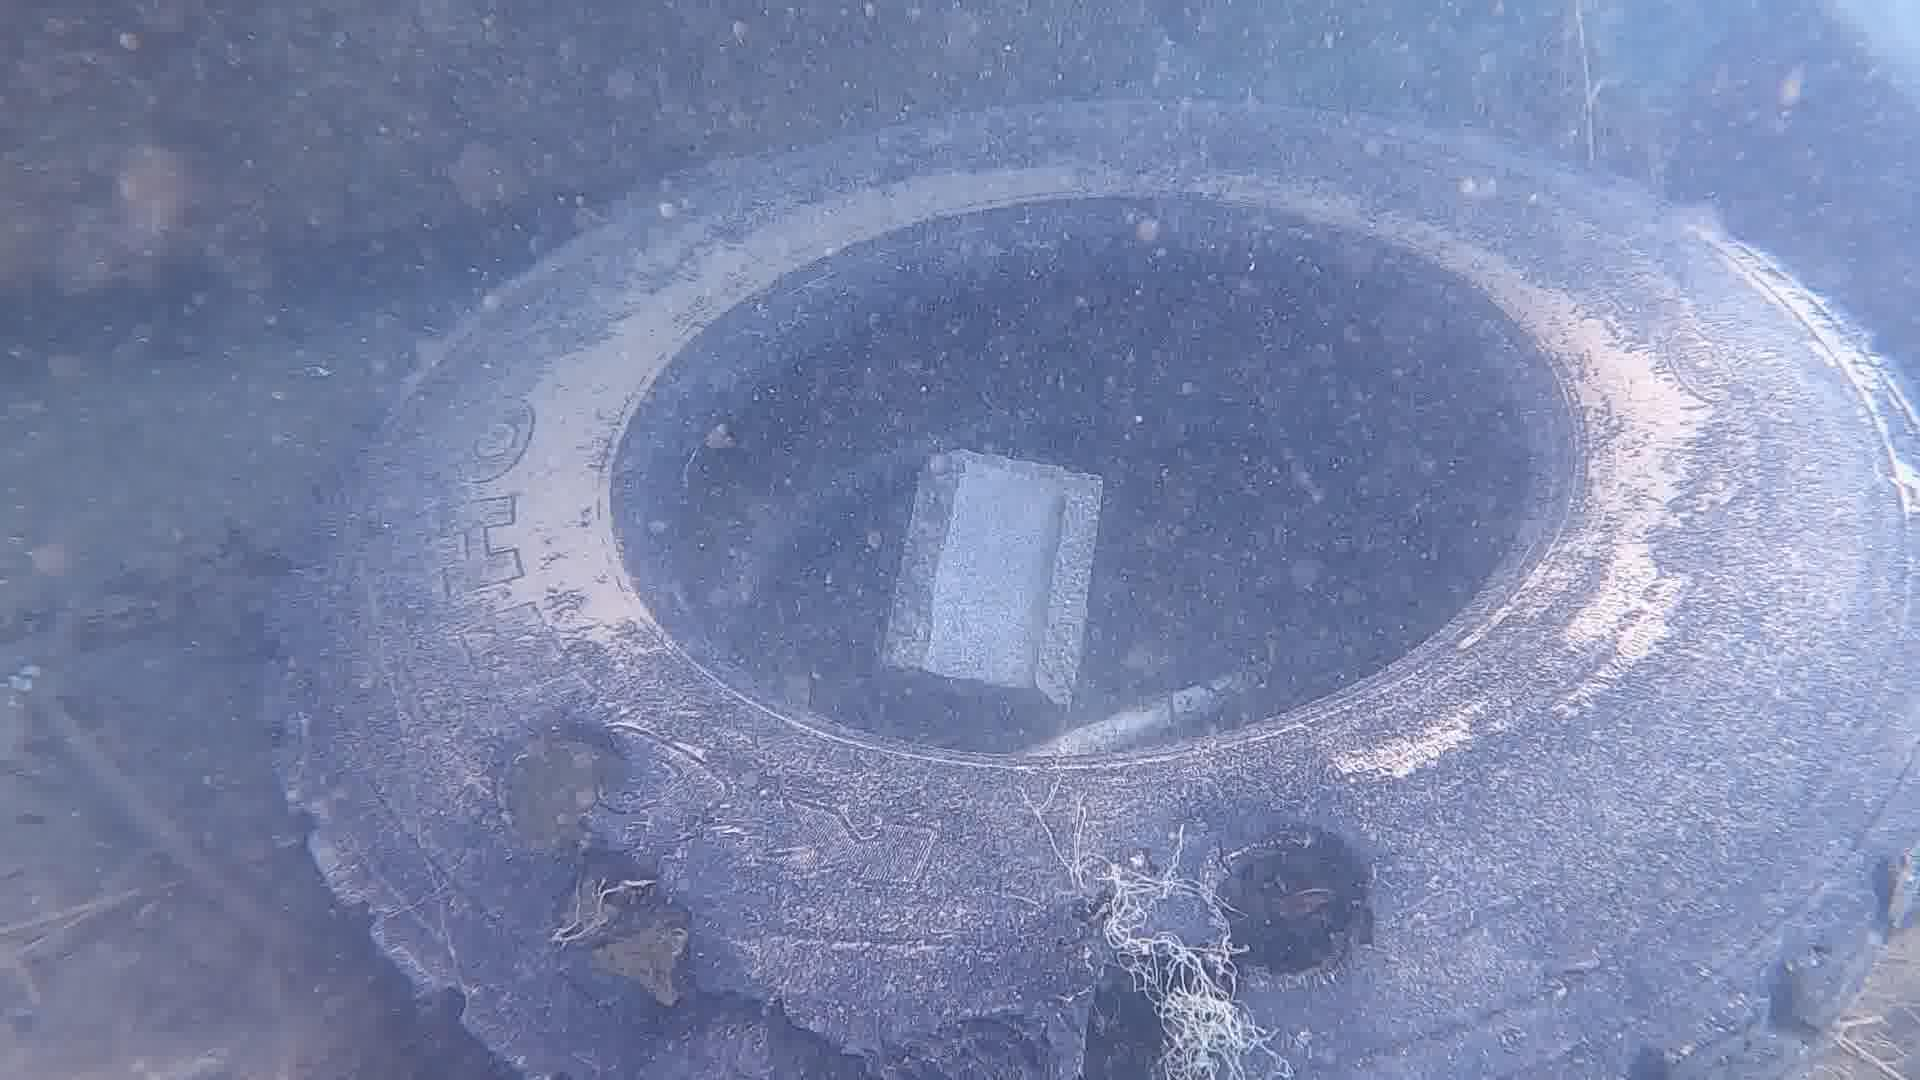tire: (257, 105, 1920, 1080)
